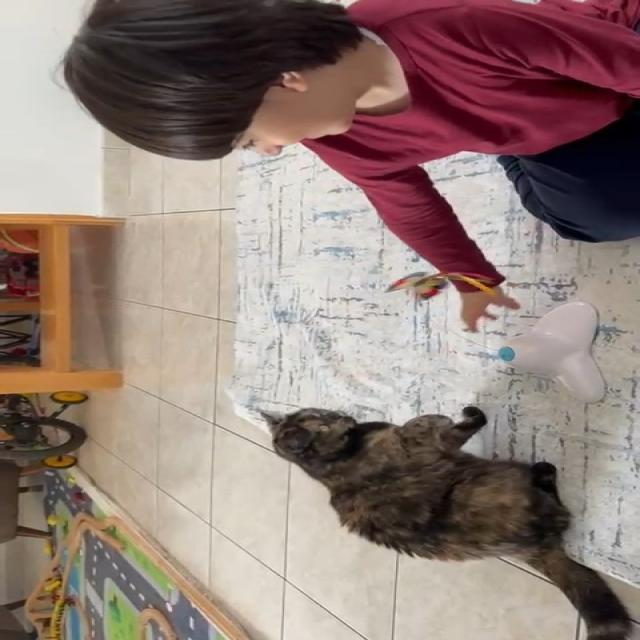authorized: (259, 405, 637, 639)
